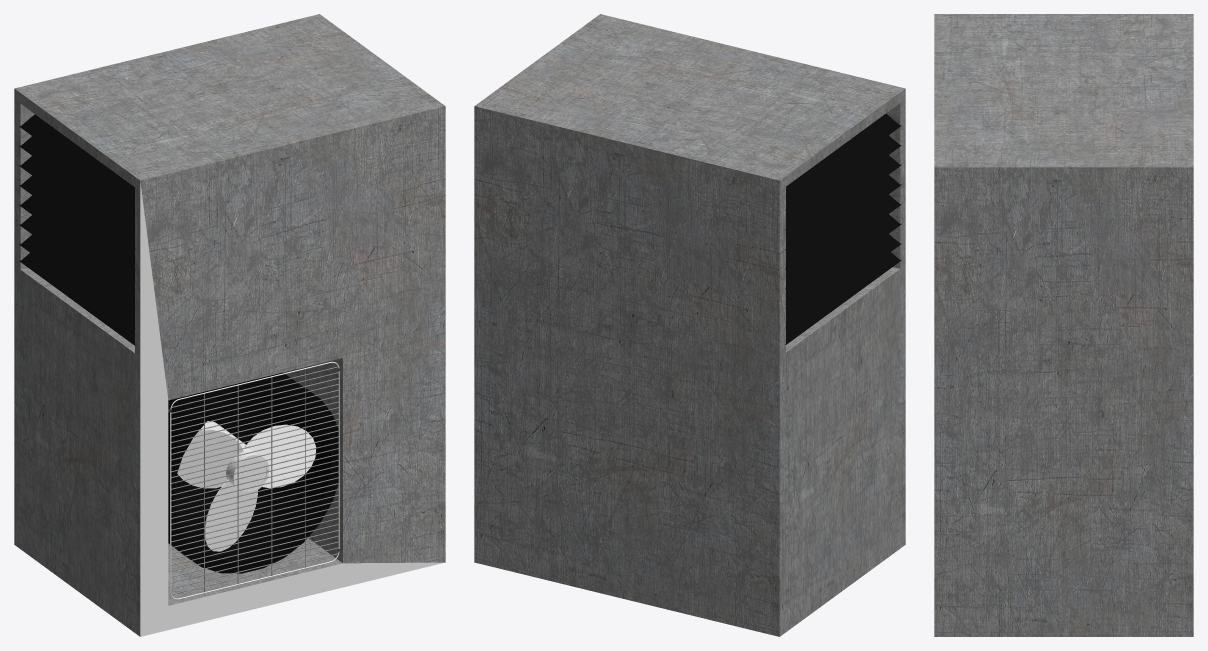
Rendered from 13_wall_osush.FBX.
3 renders of one model, left to right at view 1: azimuth 30°, elevation 25°; view 2: azimuth 150°, elevation 25°; view 3: azimuth 270°, elevation 25°, orthographic. The views are drawn at different scales.
Visible parts, largest first — view 1: Box001, OilTank01, Plane06, Cylinder009, Plane007, Cylinder010, Cylinder011, Plane008, Plane011, Plane012, Plane009, Plane010 (+4 smaller); view 2: Box001, Plane007, Plane008, Plane011, Plane012, Plane009, Plane010, Plane013, Plane014; view 3: Box001.
Part boxes in pixels (<box>): Box001: <box>14,14,445,636</box>; OilTank01: <box>168,372,338,573</box>; Plane06: <box>171,366,338,594</box>; Cylinder009: <box>244,424,316,488</box>; Plane007: <box>19,114,135,210</box>; Cylinder010: <box>177,429,243,488</box>; Cylinder011: <box>205,479,257,551</box>; Plane008: <box>19,136,135,230</box>; Plane011: <box>19,195,135,289</box>; Plane012: <box>19,215,135,309</box>; Plane009: <box>19,156,135,250</box>; Plane010: <box>19,175,135,269</box>; Box001: <box>474,14,905,636</box>; Plane007: <box>785,113,901,210</box>; Plane008: <box>785,135,901,229</box>; Plane011: <box>785,194,901,288</box>; Plane012: <box>785,214,901,308</box>; Plane009: <box>785,155,901,249</box>; Plane010: <box>785,175,901,269</box>; Plane013: <box>785,234,901,328</box>; Plane014: <box>785,252,901,344</box>; Box001: <box>934,14,1193,636</box>.
Bounding box in the file's own units: 702 × 1000 × 500.
Materials: 6 (1 with a texture image).
